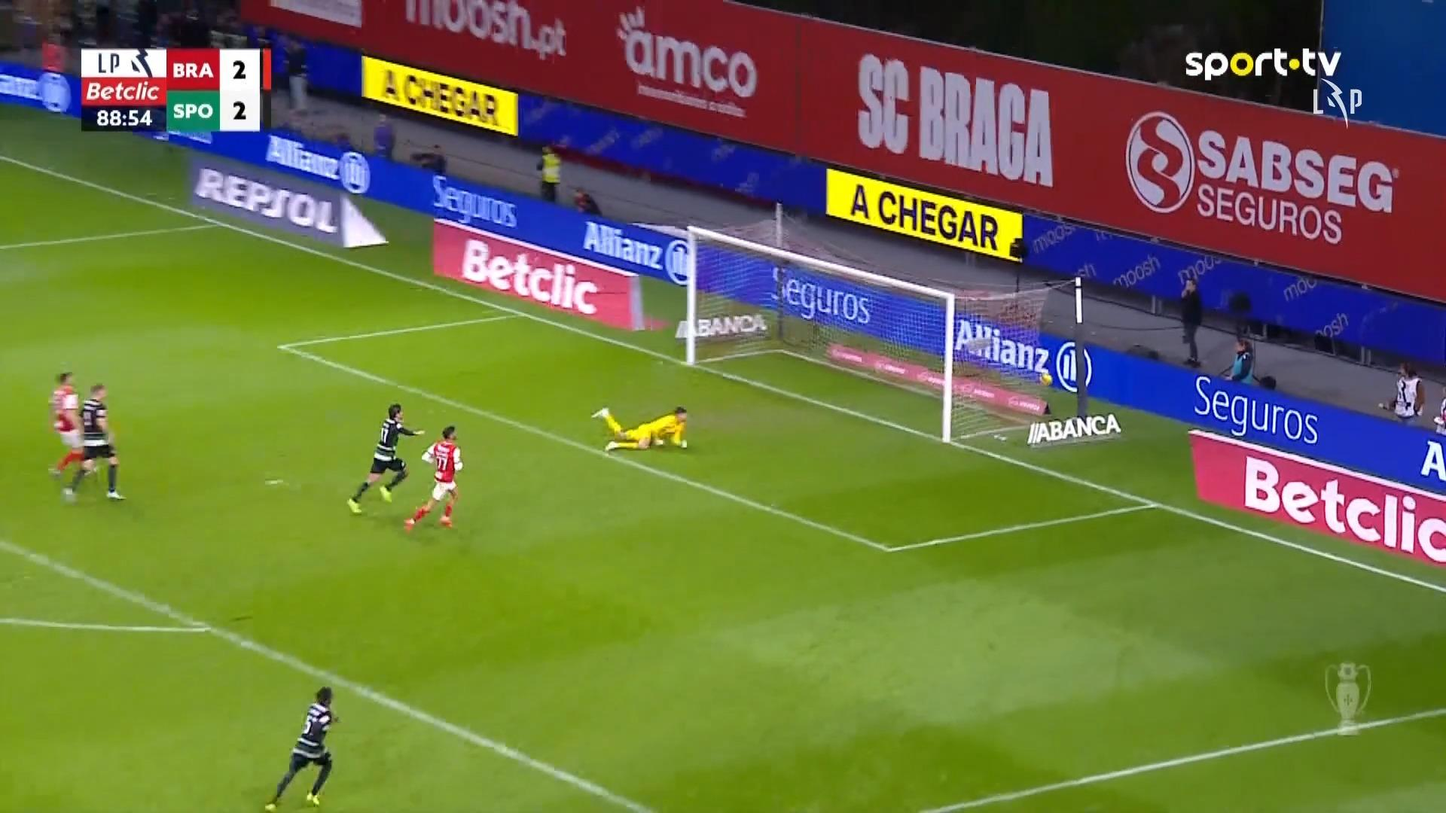ball: (1039, 372, 1051, 385)
goalkeeper: (590, 403, 689, 452)
player: (264, 685, 340, 809), (345, 402, 425, 515), (62, 381, 126, 502), (403, 425, 463, 531), (47, 370, 94, 480)
